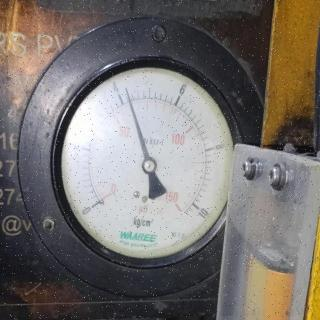gauge: (4, 15, 240, 304), (2, 302, 234, 318), (166, 196, 200, 228), (86, 189, 121, 213), (141, 156, 158, 174), (121, 84, 131, 96)
